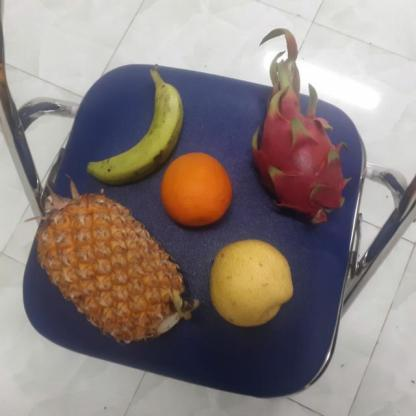banana: (85, 69, 183, 187)
orange: (158, 149, 236, 228)
pear: (205, 239, 294, 326)
pineapple: (32, 196, 192, 346)
pitaya: (245, 88, 354, 226)
